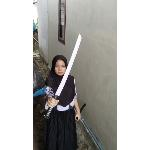Pedang: (42, 31, 84, 122)
